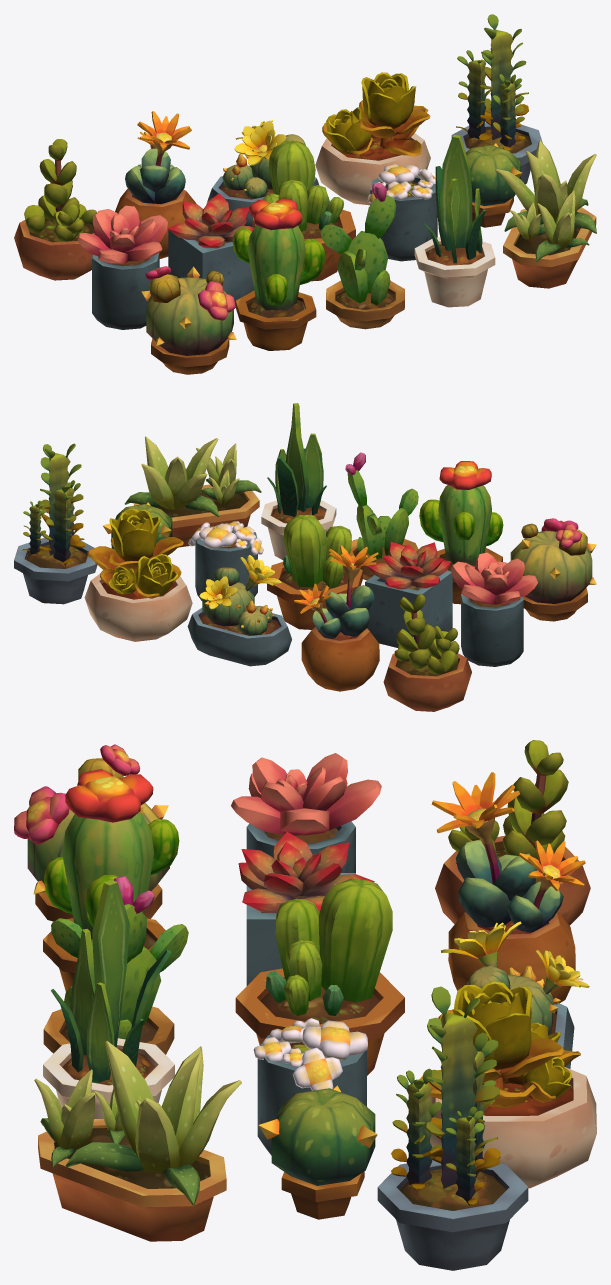
File: succulents.fbx
3 views of the same model, one above another, from view 1: azimuth 30°, elevation 25°; view 2: azimuth 150°, elevation 25°; view 3: azimuth 270°, elevation 25° (orthographic). The views are drawn at different scales.
Parts seen in each view (by area): view 1: pot_002, pot_014, pot_005, pot_004, pot_001, pot_006, pot_003, pot_015, pot_011, pot_007, pot_012, pot_008 (+3 smaller); view 2: pot_014, pot_005, pot_015, pot_012, pot_013, pot_006, pot_011, pot_007, pot_001, pot_002, pot_008, pot_004 (+3 smaller); view 3: pot_005, pot_015, pot_008, pot_014, pot_012, pot_002, pot_004, pot_010, pot_006, pot_011, pot_009, pot_007 (+3 smaller).
Boxes of the visible parts, x1,y1,x2,y2 form: pot_002: [232, 198, 325, 350]; pot_014: [315, 72, 430, 205]; pot_005: [495, 140, 596, 288]; pot_004: [414, 135, 495, 307]; pot_001: [141, 266, 236, 374]; pot_006: [77, 205, 167, 329]; pot_003: [320, 182, 404, 329]; pot_015: [451, 14, 542, 184]; pot_011: [14, 139, 96, 280]; pot_007: [168, 193, 254, 305]; pot_012: [115, 111, 196, 258]; pot_008: [252, 140, 355, 281]; pot_014: [84, 508, 192, 641]; pot_005: [124, 436, 261, 547]; pot_015: [14, 443, 97, 604]; pot_012: [294, 545, 379, 691]; pot_013: [187, 555, 291, 666]; pot_006: [451, 552, 537, 666]; pot_011: [383, 593, 471, 711]; pot_007: [365, 541, 452, 647]; pot_001: [510, 518, 596, 621]; pot_002: [419, 461, 503, 604]; pot_008: [267, 515, 362, 629]; pot_004: [261, 403, 336, 560]; pot_005: [34, 1041, 241, 1241]; pot_015: [377, 986, 528, 1270]; pot_008: [235, 878, 404, 1075]; pot_014: [420, 981, 596, 1188]; pot_012: [431, 772, 585, 1003]; pot_002: [43, 769, 179, 991]; pot_004: [43, 880, 174, 1118]; pot_010: [258, 1085, 377, 1219]; pot_006: [231, 753, 381, 872]; pot_011: [435, 740, 590, 925]; pot_009: [253, 1018, 367, 1155]; pot_007: [238, 831, 374, 985].
Size of the model in its own units: 262 by 81.57 by 166.
